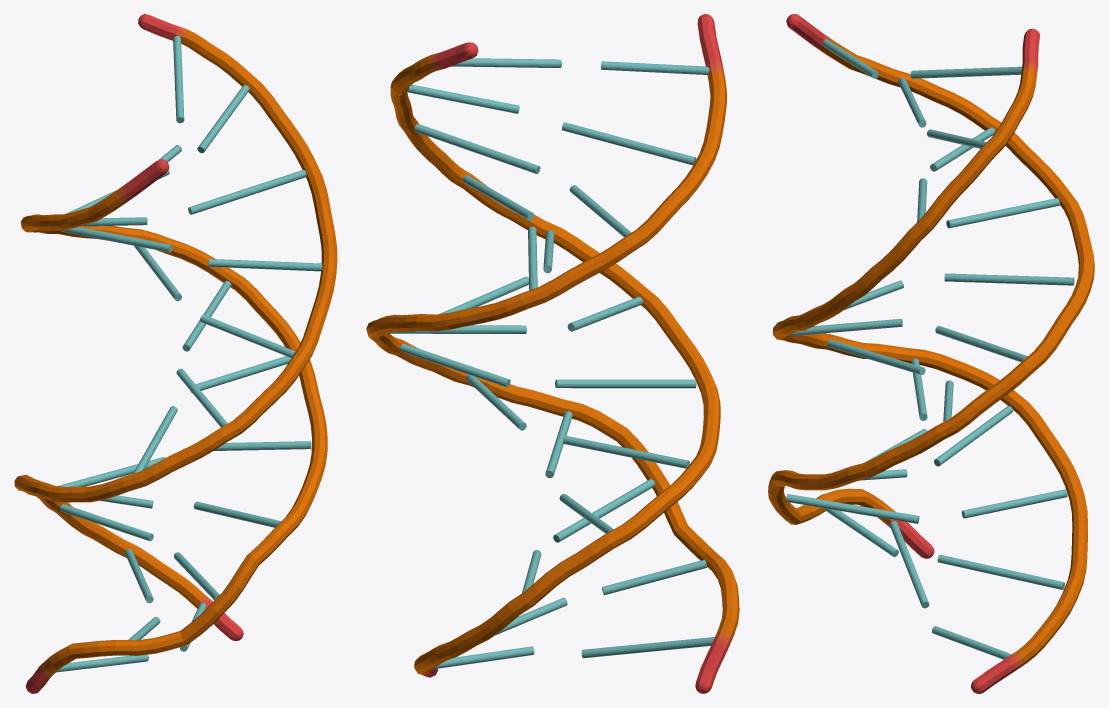
File: dnaHelix.fbx
3 renders of one model, left to right at view 1: azimuth 30°, elevation 25°; view 2: azimuth 150°, elevation 25°; view 3: azimuth 270°, elevation 25°, orthographic. The views are drawn at different scales.
Visible parts, largest first — view 1: Shape_IndexedFaceSet, Shape_Cylinder.021, Shape_Cylinder.020, Shape_Cylinder.003, Shape_Cylinder.019, Shape_Cylinder.014, Shape_Cylinder.006, Shape_Cylinder.007, Shape_Cylinder.023, Shape_Cylinder.008, Shape_Cylinder.011, Shape_Cylinder.022 (+6 smaller); view 2: Shape_IndexedFaceSet, Shape_Cylinder.017, Shape_Cylinder.001, Shape_Cylinder.011, Shape_Cylinder.021, Shape_Cylinder.016, Shape_Cylinder.006, Shape_Cylinder.022, Shape_Cylinder.010, Shape_Cylinder, Shape_Cylinder.009, Shape_Cylinder.023 (+10 smaller); view 3: Shape_IndexedFaceSet, Shape_Cylinder.009, Shape_Cylinder.004, Shape_Cylinder.013, Shape_Cylinder.003, Shape_Cylinder.023, Shape_Cylinder.014, Shape_Cylinder.018, Shape_Cylinder.017, Shape_Cylinder.005, Shape_Cylinder.015, Shape_Cylinder.011 (+4 smaller).
Boxes of the visible parts, left/top/right/bottom form: Shape_IndexedFaceSet: left=14, top=14, right=337, bottom=693; Shape_Cylinder.021: left=188, top=169, right=306, bottom=214; Shape_Cylinder.020: left=208, top=259, right=322, bottom=271; Shape_Cylinder.003: left=60, top=227, right=172, bottom=252; Shape_Cylinder.019: left=200, top=314, right=295, bottom=358; Shape_Cylinder.014: left=60, top=504, right=153, bottom=541; Shape_Cylinder.006: left=190, top=356, right=291, bottom=393; Shape_Cylinder.007: left=214, top=441, right=311, bottom=450; Shape_Cylinder.023: left=173, top=35, right=184, bottom=123; Shape_Cylinder.008: left=193, top=501, right=280, bottom=527; Shape_Cylinder.011: left=56, top=654, right=148, bottom=672; Shape_Cylinder.022: left=197, top=85, right=249, bottom=153; Shape_IndexedFaceSet: left=366, top=14, right=739, bottom=693; Shape_Cylinder.017: left=555, top=379, right=696, bottom=388; Shape_Cylinder.001: left=562, top=122, right=696, bottom=165; Shape_Cylinder.011: left=581, top=637, right=714, bottom=658; Shape_Cylinder.021: left=414, top=123, right=540, bottom=173; Shape_Cylinder.016: left=563, top=435, right=689, bottom=468; Shape_Cylinder.006: left=400, top=343, right=510, bottom=387; Shape_Cylinder.022: left=407, top=84, right=519, bottom=113; Shape_Cylinder.010: left=602, top=559, right=706, bottom=595; Shape_Cylinder: left=601, top=61, right=709, bottom=74; Shape_Cylinder.009: left=553, top=479, right=654, bottom=542; Shape_Cylinder.023: left=451, top=58, right=561, bottom=67; Shape_IndexedFaceSet: left=768, top=14, right=1094, bottom=693; Shape_Cylinder.009: left=786, top=494, right=919, bottom=523; Shape_Cylinder.004: left=944, top=273, right=1074, bottom=285; Shape_Cylinder.013: left=937, top=554, right=1064, bottom=589; Shape_Cylinder.003: left=946, top=198, right=1059, bottom=228; Shape_Cylinder.023: left=910, top=66, right=1021, bottom=78; Shape_Cylinder.014: left=961, top=489, right=1067, bottom=518; Shape_Cylinder.018: left=790, top=318, right=902, bottom=335; Shape_Cylinder.017: left=827, top=339, right=925, bottom=374; Shape_Cylinder.005: left=935, top=325, right=1027, bottom=362; Shape_Cylinder.015: left=934, top=406, right=1012, bottom=466; Shape_Cylinder.011: left=889, top=521, right=929, bottom=608.
Bounding box in the file's own units: 2100 × 4292 × 2010.
